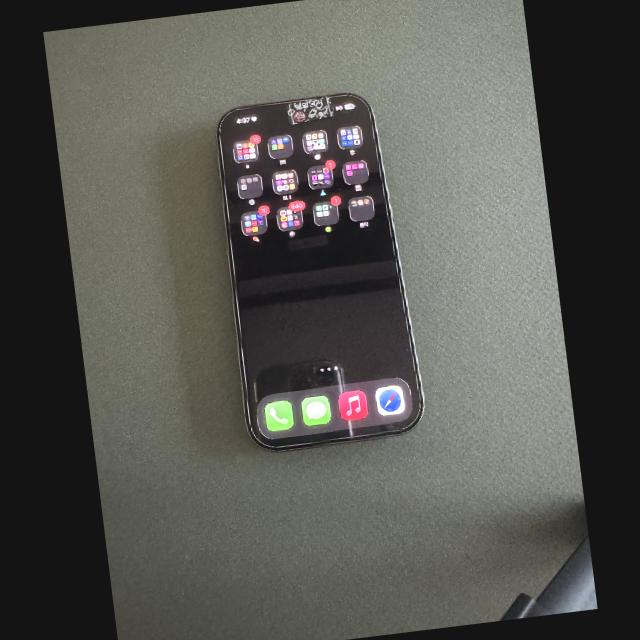phone: (216, 93, 423, 450)
sticker: (286, 96, 333, 124)
